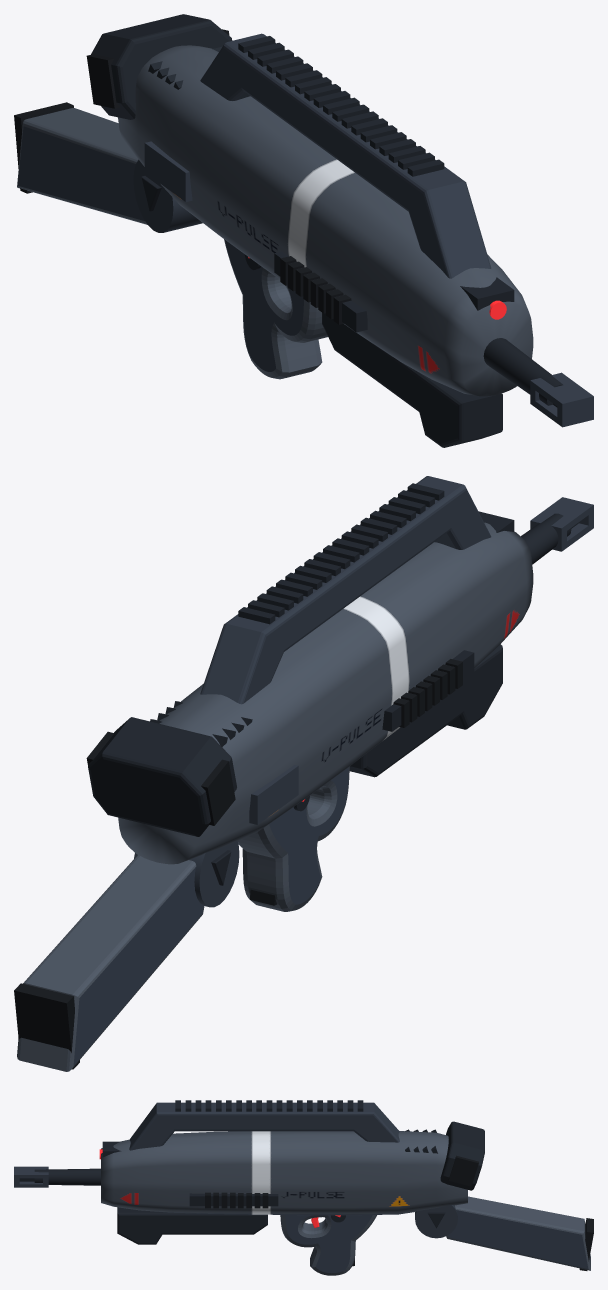
Rendered from v-pulse.glb.
The picture shows the model from 3 angles, top to bottom: view 1: azimuth 30°, elevation 25°; view 2: azimuth 150°, elevation 25°; view 3: azimuth 270°, elevation 25°; orthographic projection. The views are drawn at different scales.
Visible parts, largest first — view 1: V_Pulse; view 2: V_Pulse; view 3: V_Pulse.
Part boxes in pixels (bbox=[...]): V_Pulse: bbox=[14, 14, 593, 447]; V_Pulse: bbox=[14, 476, 593, 1071]; V_Pulse: bbox=[14, 1100, 593, 1275].
Size of the model in its own units: 0.0293 by 0.0701 by 0.2199.
Materials: 1 (1 with a texture image).
